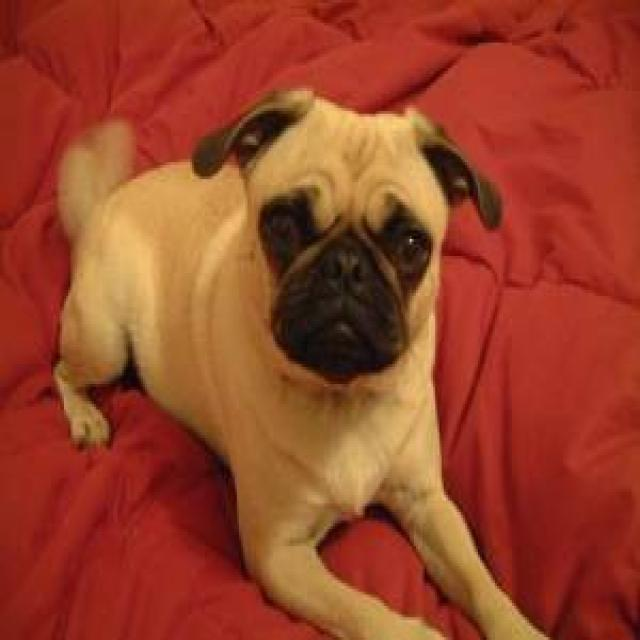dog-pug: (36, 68, 538, 634)
